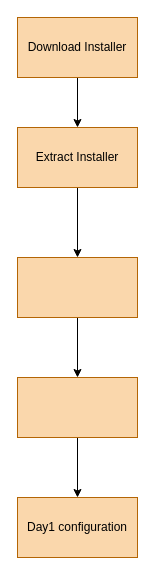
Some shapes in this 155 by 575 pixel diagram are drawn without their labels. The shapes that lost their labels are listed below. From the top down, each one's centre as x and y in pixels, then its label:
the point at 77,287: ESXI Kickstart
the point at 77,407: PPOE install
